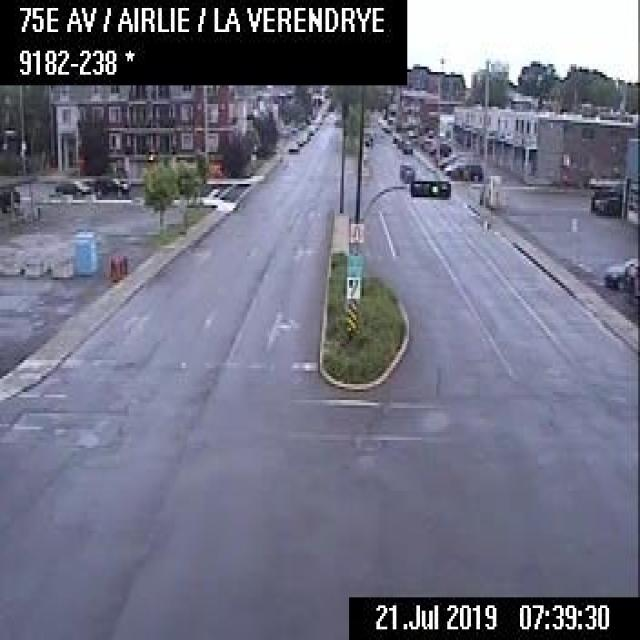construction: (108, 253, 117, 280), (116, 252, 123, 277)
vehicle: (603, 254, 638, 288), (444, 156, 482, 180), (92, 174, 127, 197), (52, 176, 91, 196), (437, 153, 464, 167), (398, 161, 413, 184), (428, 140, 450, 152), (400, 139, 412, 153), (286, 141, 298, 152), (390, 130, 399, 141)
